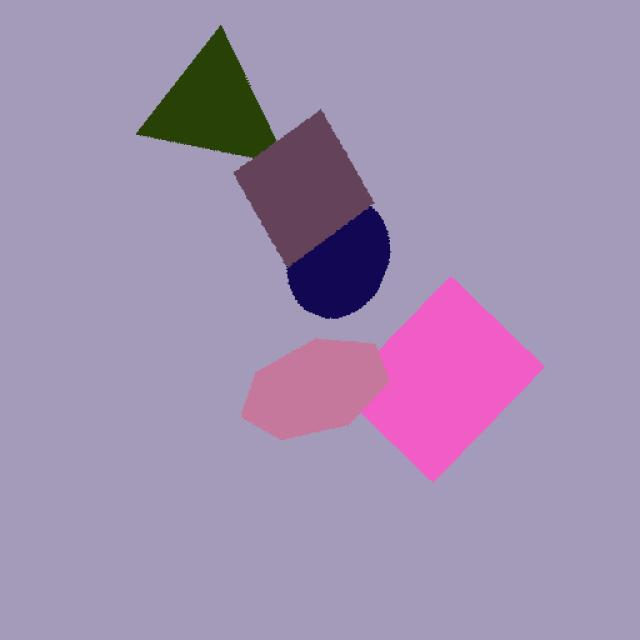Circle: (258, 180, 407, 321)
Heptagon: (200, 328, 400, 447)
Rectangle: (346, 268, 553, 499)
Triangle: (120, 15, 292, 167)
square: (229, 103, 381, 269)
